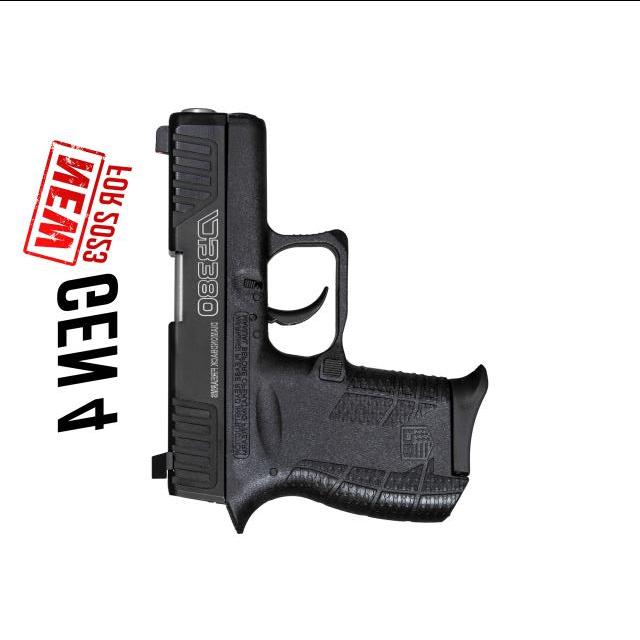pistol: (144, 108, 474, 542)
